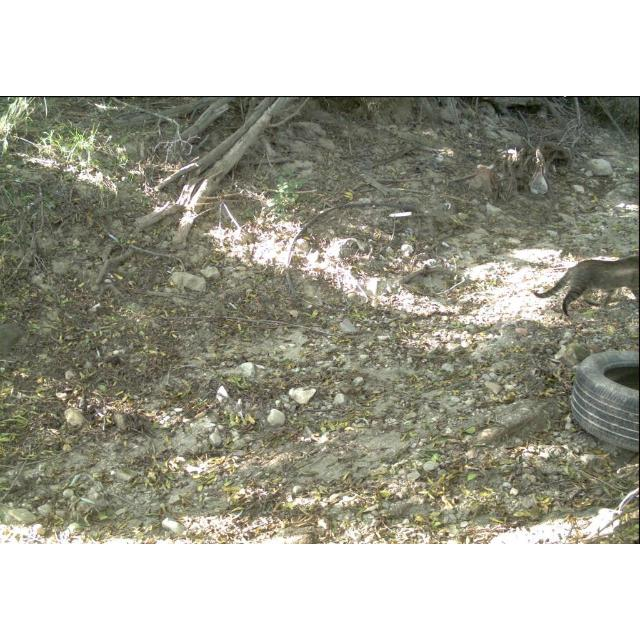animals: (532, 256, 640, 316)
